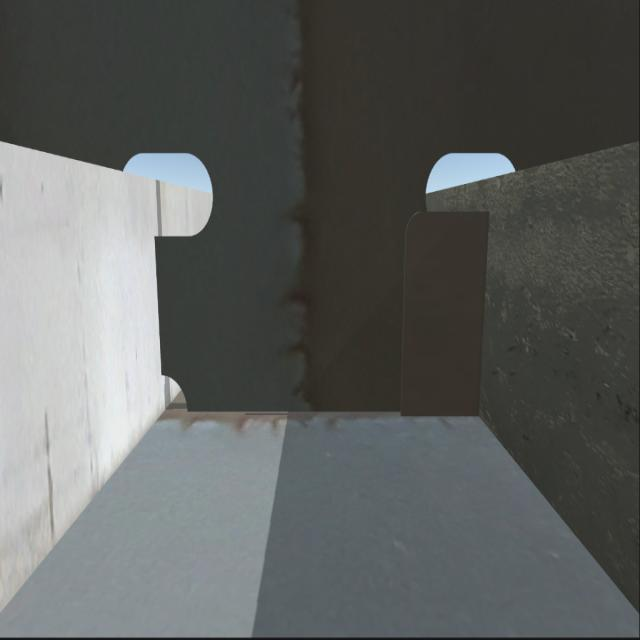fillet_hole: (153, 374, 189, 421)
fillet_yong_jeop_jang: (185, 408, 478, 413)
longi_yong_jeop_jang: (472, 219, 492, 416), (152, 242, 164, 379)
plate_CP05: (406, 211, 492, 412)
